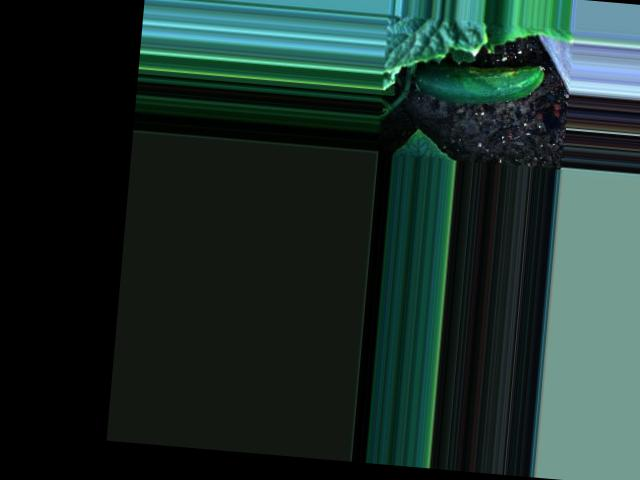cucumber: (414, 54, 545, 109)
